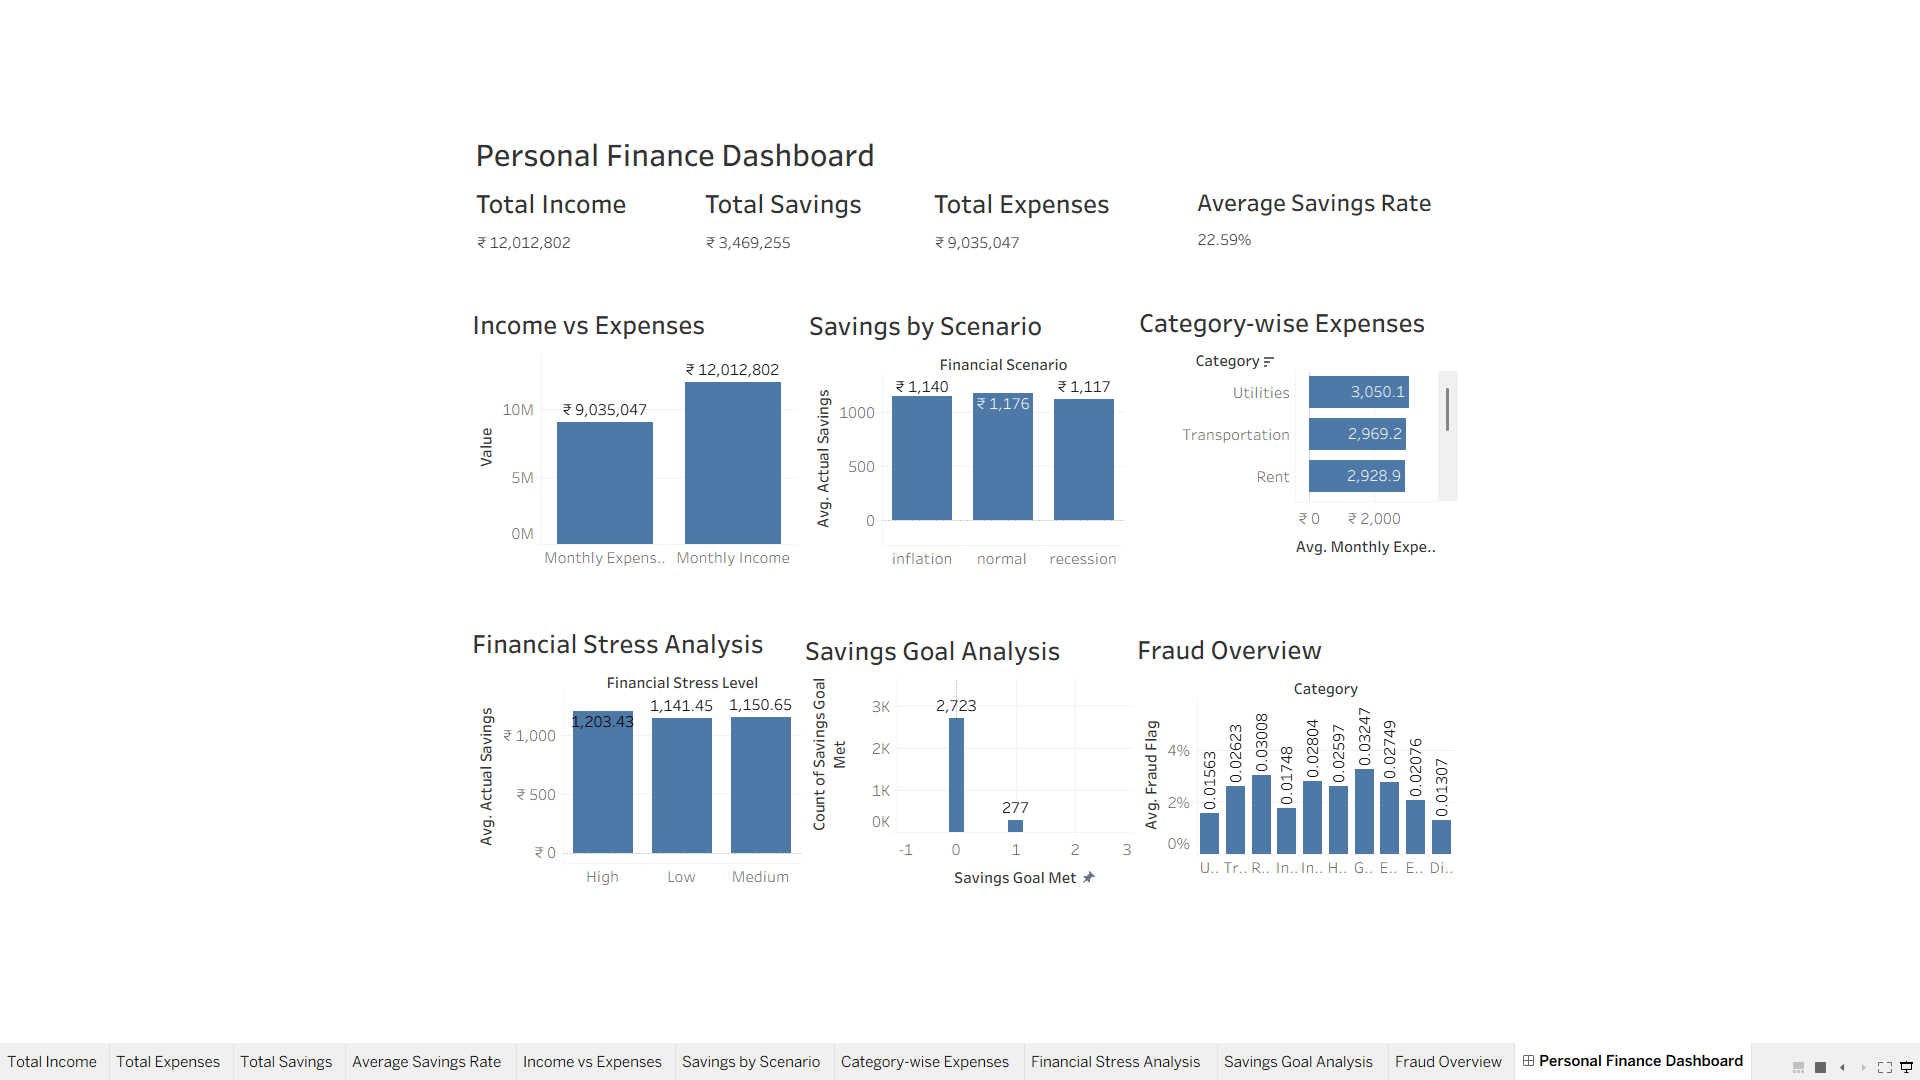

Layout of this report page (visuals, bound fields, positions):
{"tool":"tableau","page":{"name":"Personal Finance Dashboard","canvas":[1000,800],"ordinal":0},"visuals":[{"type":"title","box":[8,8,984,49]},{"type":"worksheet","title":"Total Income","mark":"Automatic","box":[8,57,229,119]},{"type":"worksheet","title":"Total Savings","mark":"Automatic","box":[237,57,229,119]},{"type":"worksheet","title":"Total Expenses","mark":"Automatic","box":[466,57,263,119]},{"type":"worksheet","title":"Average Savings Rate","mark":"Automatic","box":[729,57,263,119]},{"type":"worksheet","title":"Category-wise Expenses","mark":"Bar","rows":["category"],"cols":["monthly_expense_total"],"box":[675,180,323,263]},{"type":"worksheet","title":"Income vs Expenses","mark":"Bar","box":[8,182,329,266]},{"type":"worksheet","title":"Savings by Scenario","mark":"Bar","rows":["actual_savings"],"cols":["financial_scenario"],"box":[345,183,319,266]},{"type":"worksheet","title":"Financial Stress Analysis","mark":"Bar","rows":["actual_savings"],"cols":["financial_stress_level"],"box":[8,501,333,266]},{"type":"worksheet","title":"Fraud Overview","mark":"Bar","rows":["fraud_flag"],"cols":["category"],"box":[673,507,321,266]},{"type":"worksheet","title":"Savings Goal Analysis","mark":"Bar","rows":["savings_goal_met"],"cols":["savings_goal_met"],"box":[341,508,333,266]}]}

Visuals, with their boxes on the page's 1000x800 design canvas (x1, y1, x2, y2). These are canvas units, not pixel positions in the 1920x1080 screenshot, which may show the page scaled, cropped or inside an application window:
title: [x1=8, y1=8, x2=992, y2=57]
"Total Income" worksheet: [x1=8, y1=57, x2=237, y2=176]
"Total Savings" worksheet: [x1=237, y1=57, x2=466, y2=176]
"Total Expenses" worksheet: [x1=466, y1=57, x2=729, y2=176]
"Average Savings Rate" worksheet: [x1=729, y1=57, x2=992, y2=176]
"Category-wise Expenses" worksheet (Bar marks): [x1=675, y1=180, x2=998, y2=443]
"Income vs Expenses" worksheet (Bar marks): [x1=8, y1=182, x2=337, y2=448]
"Savings by Scenario" worksheet (Bar marks): [x1=345, y1=183, x2=664, y2=449]
"Financial Stress Analysis" worksheet (Bar marks): [x1=8, y1=501, x2=341, y2=767]
"Fraud Overview" worksheet (Bar marks): [x1=673, y1=507, x2=994, y2=773]
"Savings Goal Analysis" worksheet (Bar marks): [x1=341, y1=508, x2=674, y2=774]
